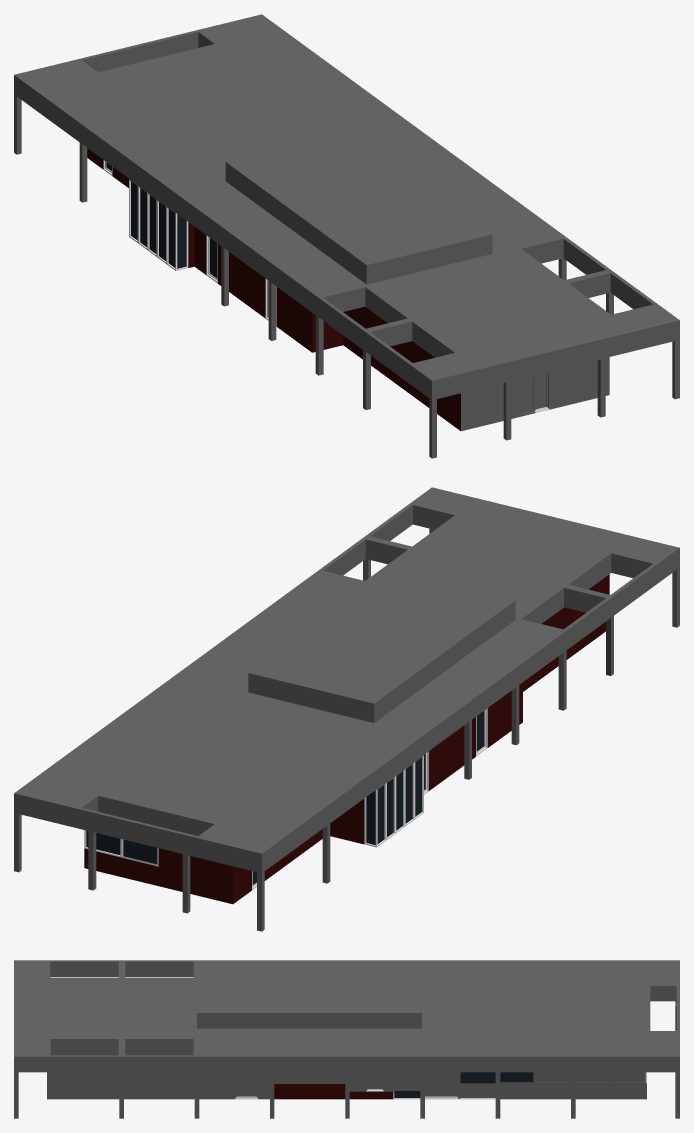
File: Info_desk.fbx
3 renders of one model, top to bottom at view 1: azimuth 30°, elevation 25°; view 2: azimuth 150°, elevation 25°; view 3: azimuth 270°, elevation 25°, orthographic. The views are drawn at different scales.
Visible parts, largest first — view 1: Box001; view 2: Box001; view 3: Box001.
Part boxes in pixels (<box>): Box001: <box>14,14,679,458</box>; Box001: <box>14,487,679,931</box>; Box001: <box>14,960,679,1118</box>.
Size of the model in its own units: 78.74 by 29.53 by 230.
